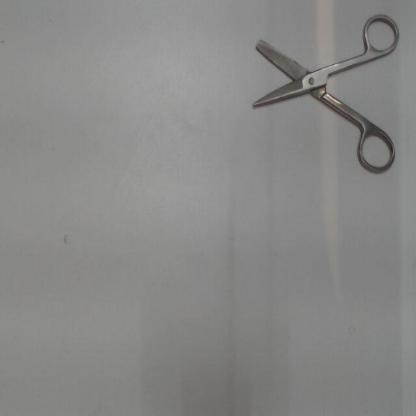Dressing Scissors: (240, 10, 404, 180)
